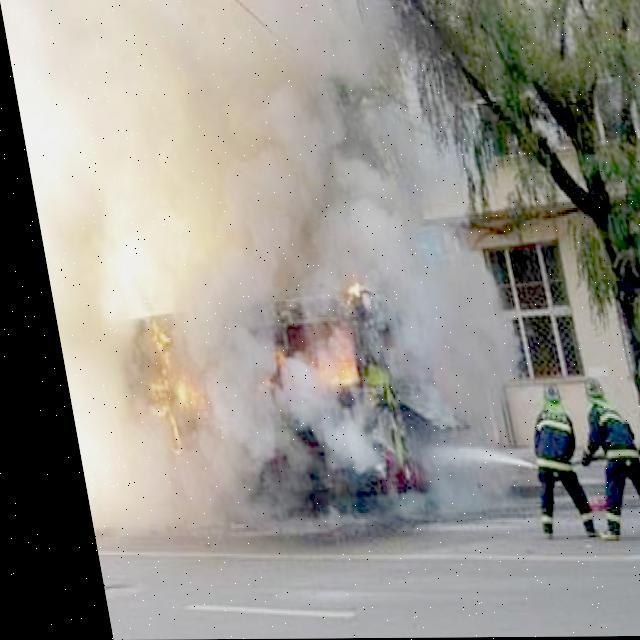Fire: (83, 286, 393, 466)
